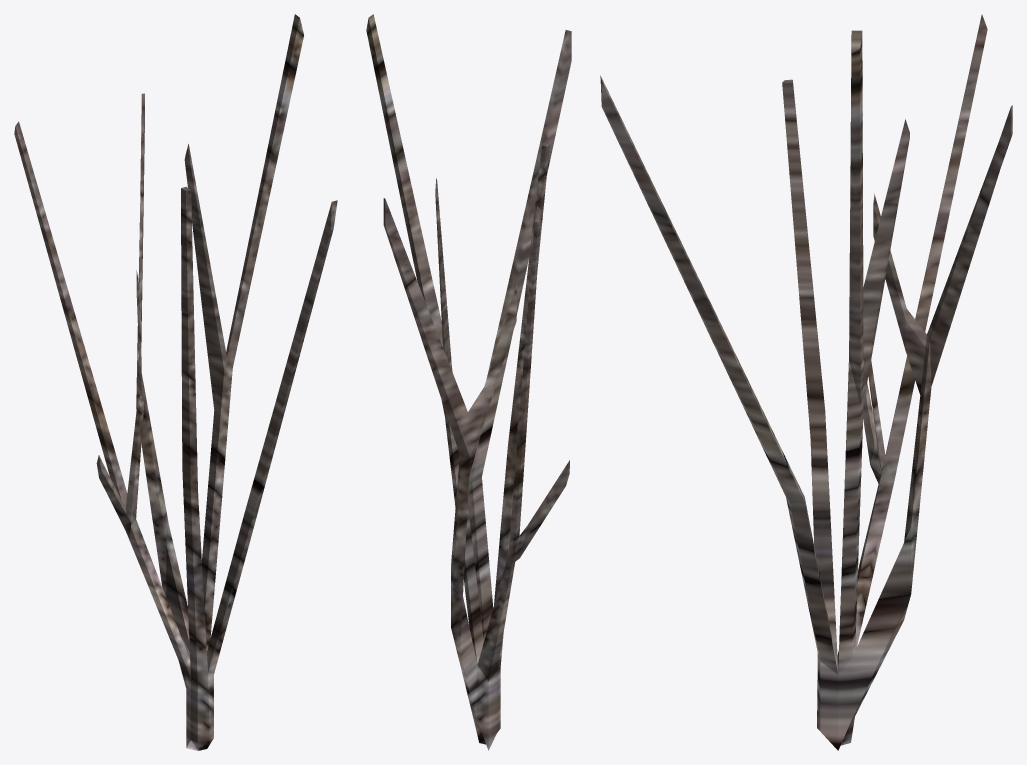
The model's file is littleTree.gltf.
The picture shows the model from 3 angles, left to right: view 1: azimuth 30°, elevation 25°; view 2: azimuth 150°, elevation 25°; view 3: azimuth 270°, elevation 25°; orthographic projection. The views are drawn at different scales.
Parts seen in each view (by area): view 1: lilTree; view 2: lilTree; view 3: lilTree.
Boxes of the visible parts, box(x1,y1,x2,y2) form: lilTree: box(14, 14, 337, 750); lilTree: box(366, 14, 571, 750); lilTree: box(600, 14, 1012, 750).
Size of the model in its own units: 1.04 by 3.05 by 1.47.
Materials: 1 (1 with a texture image).
